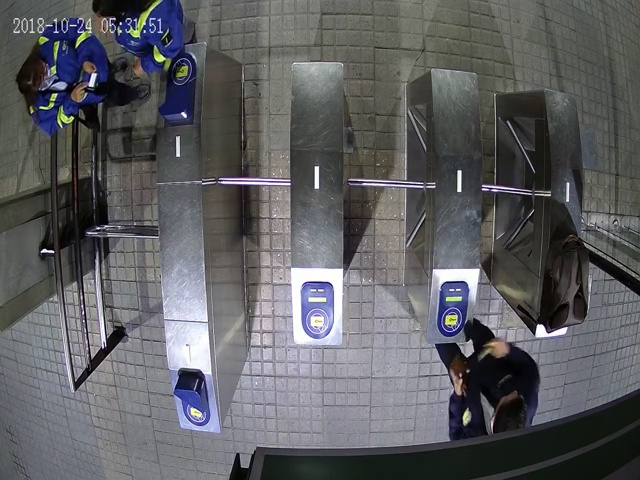Chaleco_azul: (15, 18, 152, 135), (90, 1, 194, 78)
